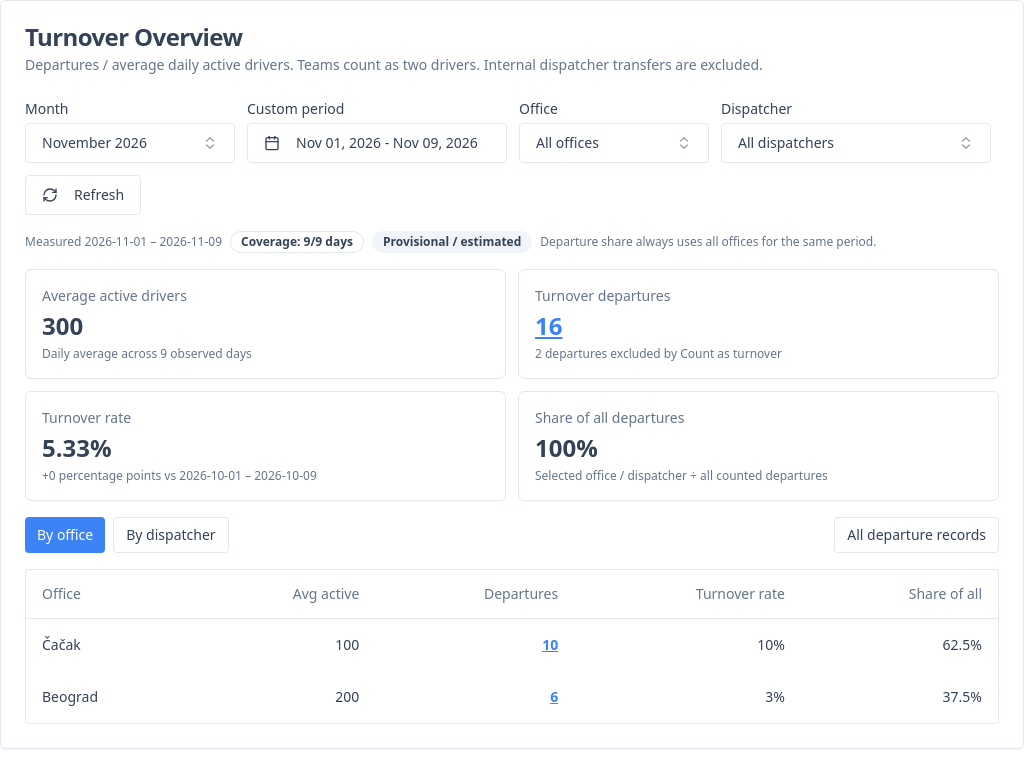
Test: Turnover overview › shows rates and global shares, then opens the office dispatcher overview
expect the text "5.33%" is shown: met, box [42,431,112,464]
Click the button "Čačak". click: (61, 644)
box: [42,634,81,654]
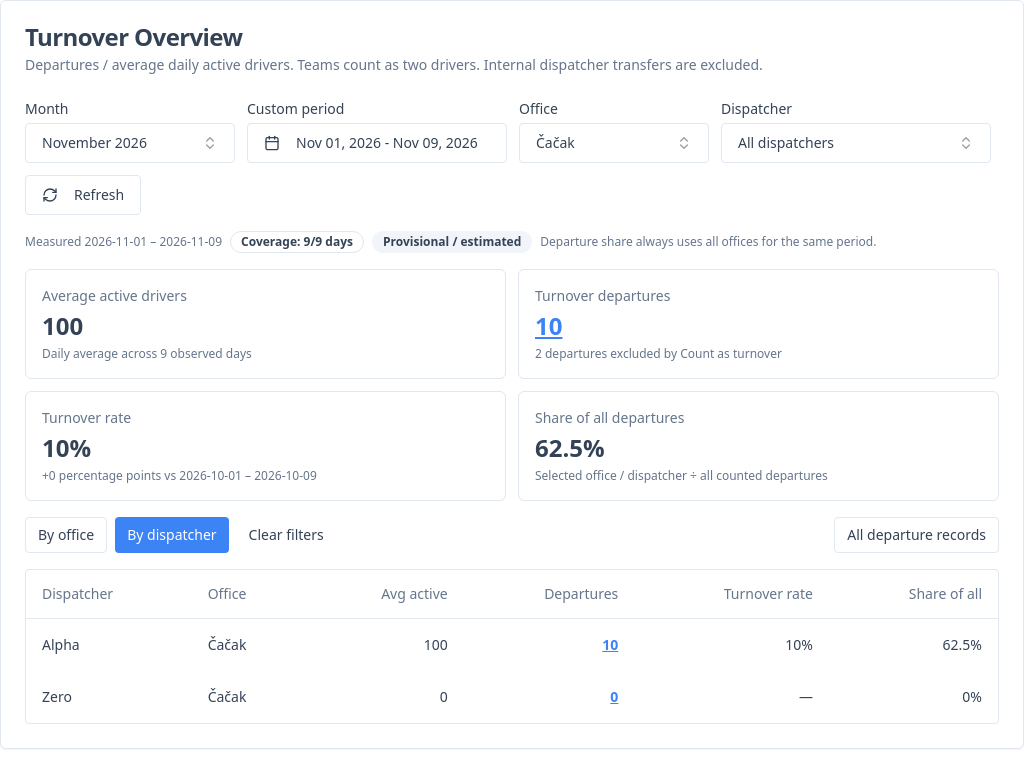
expect the button "Alpha" is shown: met, box [42,634,80,654]
expect the button "Zero" is shown: met, box [42,686,72,706]
expect the text "62.5%" is shown: met, box [535,431,605,464]
